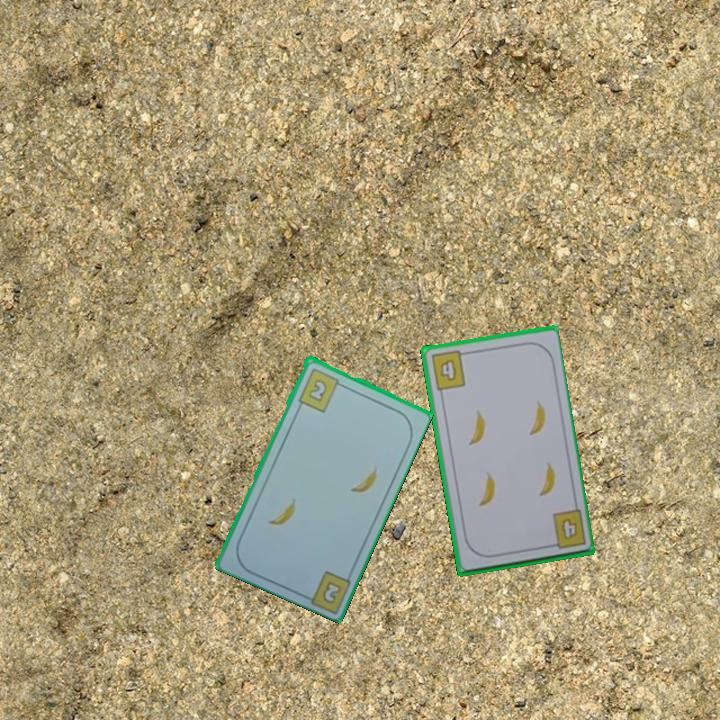2b: (295, 364, 346, 415), (319, 577, 344, 606)
4b: (544, 506, 588, 552), (427, 347, 470, 393)
